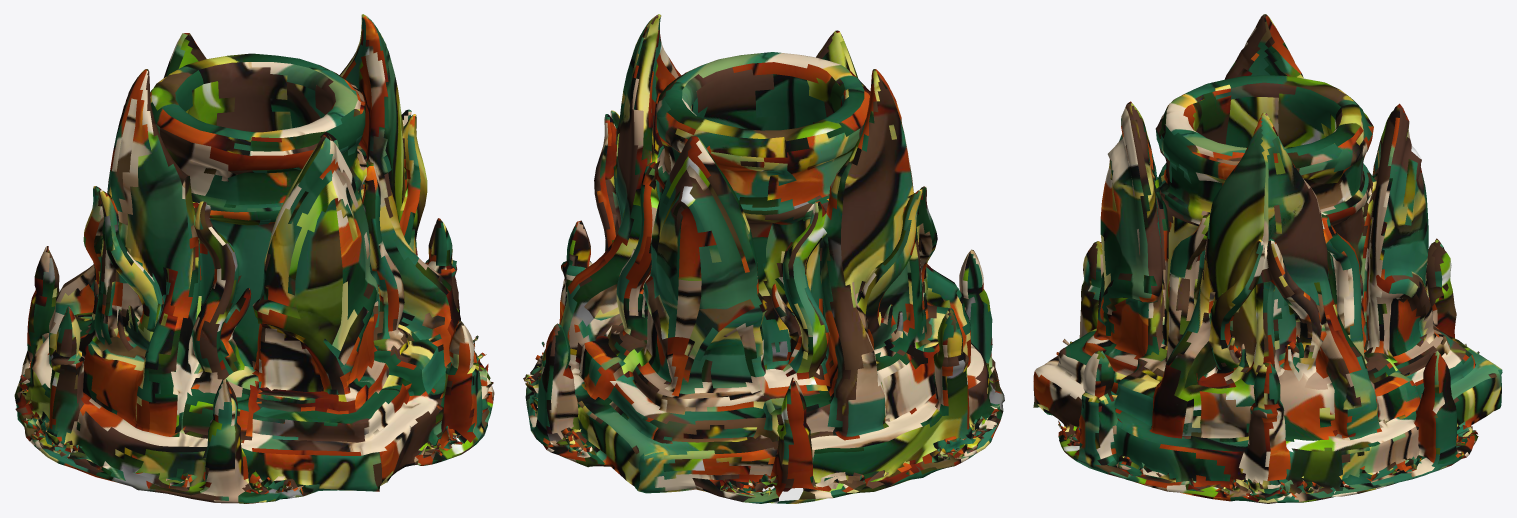
The model's file is nat-tw1-lv2-new-19000.fbx.
3 renders of one model, left to right at view 1: azimuth 30°, elevation 25°; view 2: azimuth 150°, elevation 25°; view 3: azimuth 270°, elevation 25°, orthographic. The views are drawn at different scales.
Visible parts, largest first — view 1: tripo_node_91163735; view 2: tripo_node_91163735; view 3: tripo_node_91163735.
Boxes of the visible parts, left/top/right/bottom form: tripo_node_91163735: left=14, top=14, right=494, bottom=503; tripo_node_91163735: left=523, top=14, right=1004, bottom=503; tripo_node_91163735: left=1033, top=14, right=1502, bottom=503.
Bounding box in the file's own units: 0.9431 × 0.7614 × 0.9401.
